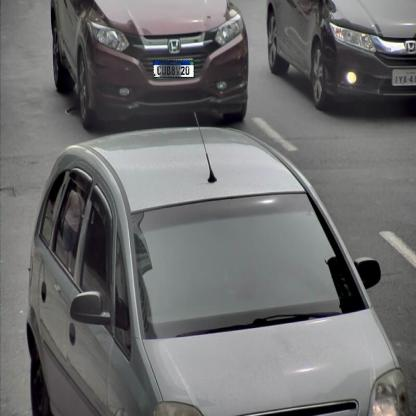PlacaM: (153, 60, 194, 78)
